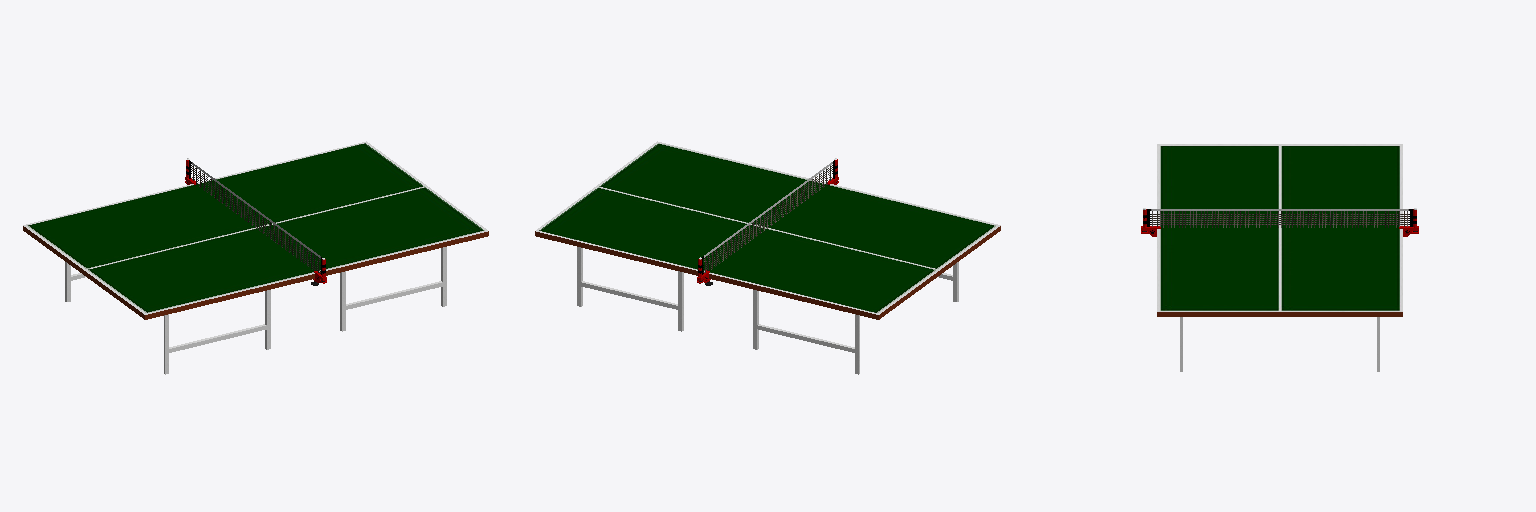
The picture shows the model from 3 angles: view 1: azimuth 30°, elevation 25°; view 2: azimuth 150°, elevation 25°; view 3: azimuth 270°, elevation 25°; orthographic projection.
Parts seen in each view (by area): view 1: Circle_Circle.001; view 2: Circle_Circle.001; view 3: Circle_Circle.001.
Part boxes in pixels (x1,y1,x2,y2): Circle_Circle.001: (23,141,488,374); Circle_Circle.001: (535,141,1000,374); Circle_Circle.001: (1141,144,1418,371).
Size of the model in its own units: 1 by 0.2645 by 0.6979.
Materials: 2 (1 with a texture image).